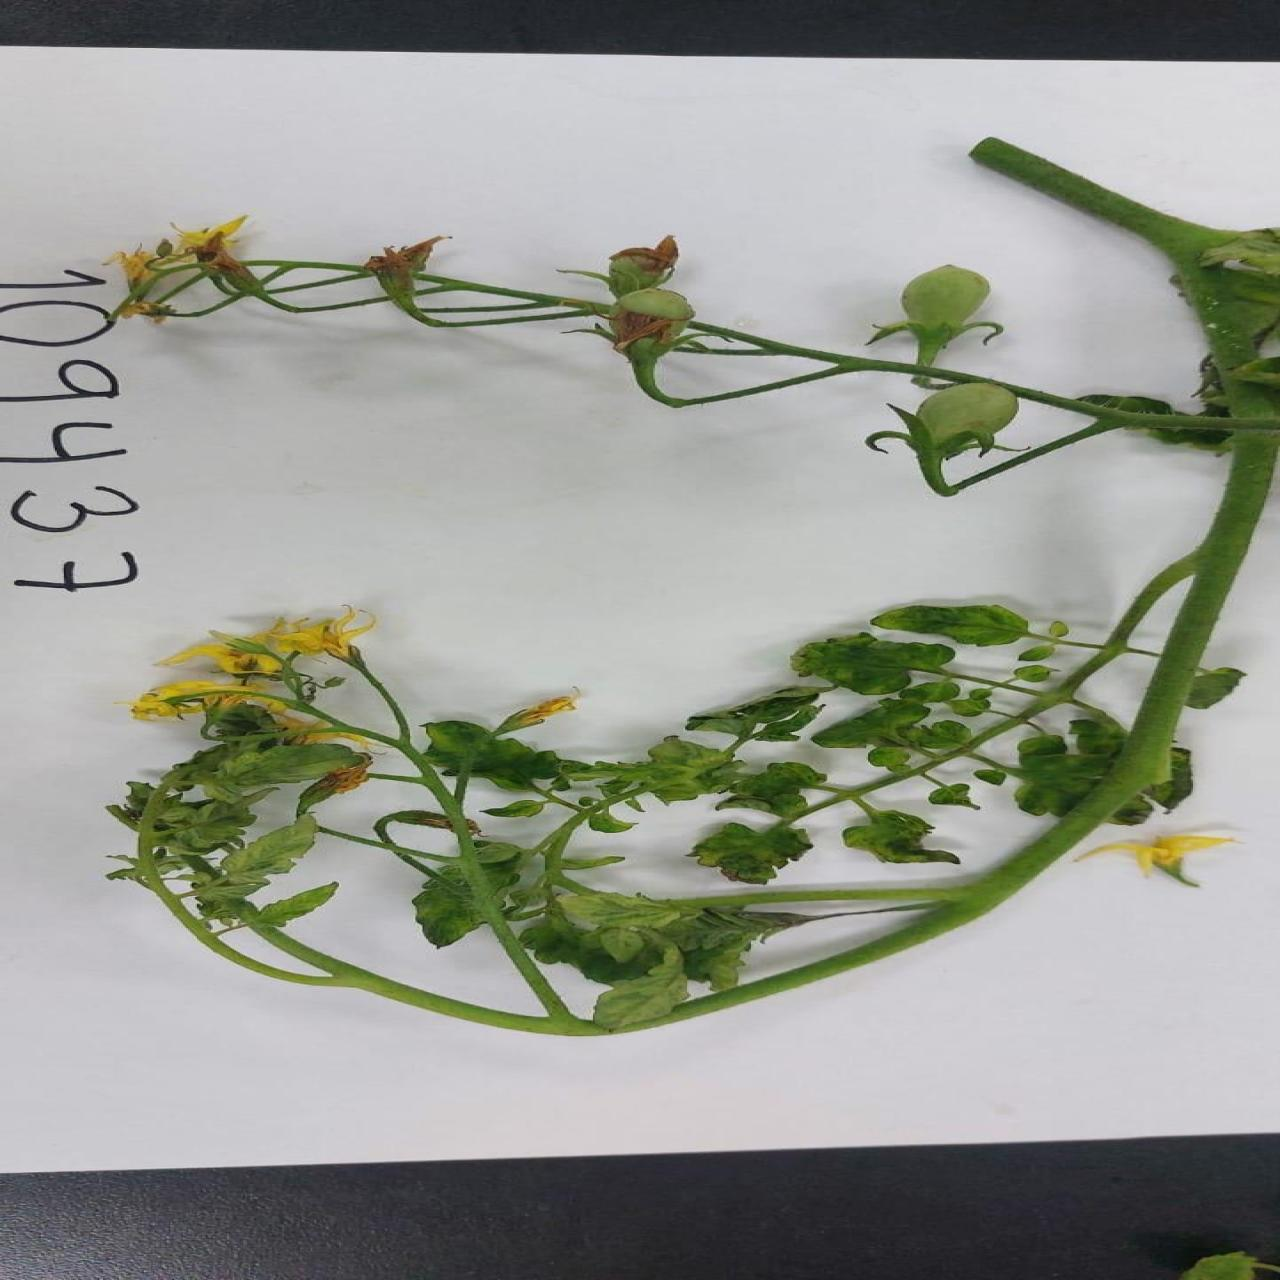T_F_R: (915, 384, 1016, 444), (900, 266, 989, 331)
T_Fl_H: (1075, 838, 1237, 888), (115, 681, 282, 721), (264, 607, 372, 660), (152, 645, 278, 675)
T_Fl_R: (313, 754, 368, 795), (381, 811, 450, 832), (465, 821, 479, 836)
